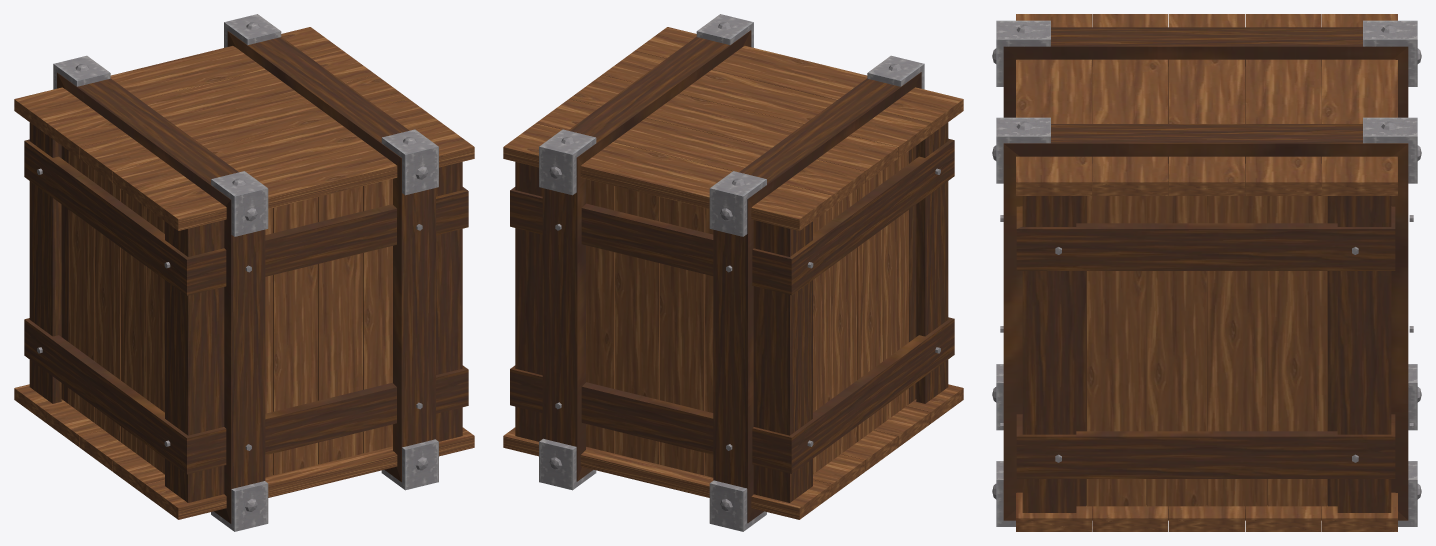
The picture shows the model from 3 angles, left to right: view 1: azimuth 30°, elevation 25°; view 2: azimuth 150°, elevation 25°; view 3: azimuth 270°, elevation 25°; orthographic projection. The views are drawn at different scales.
Visible parts, largest first — view 1: source; view 2: source; view 3: source.
Part boxes in pixels (<box>): source: <box>14,14,474,531</box>; source: <box>503,14,963,531</box>; source: <box>992,14,1421,531</box>.
Size of the model in its own units: 0.8423 by 0.9325 by 0.9088.
Materials: 2 (2 with a texture image).
